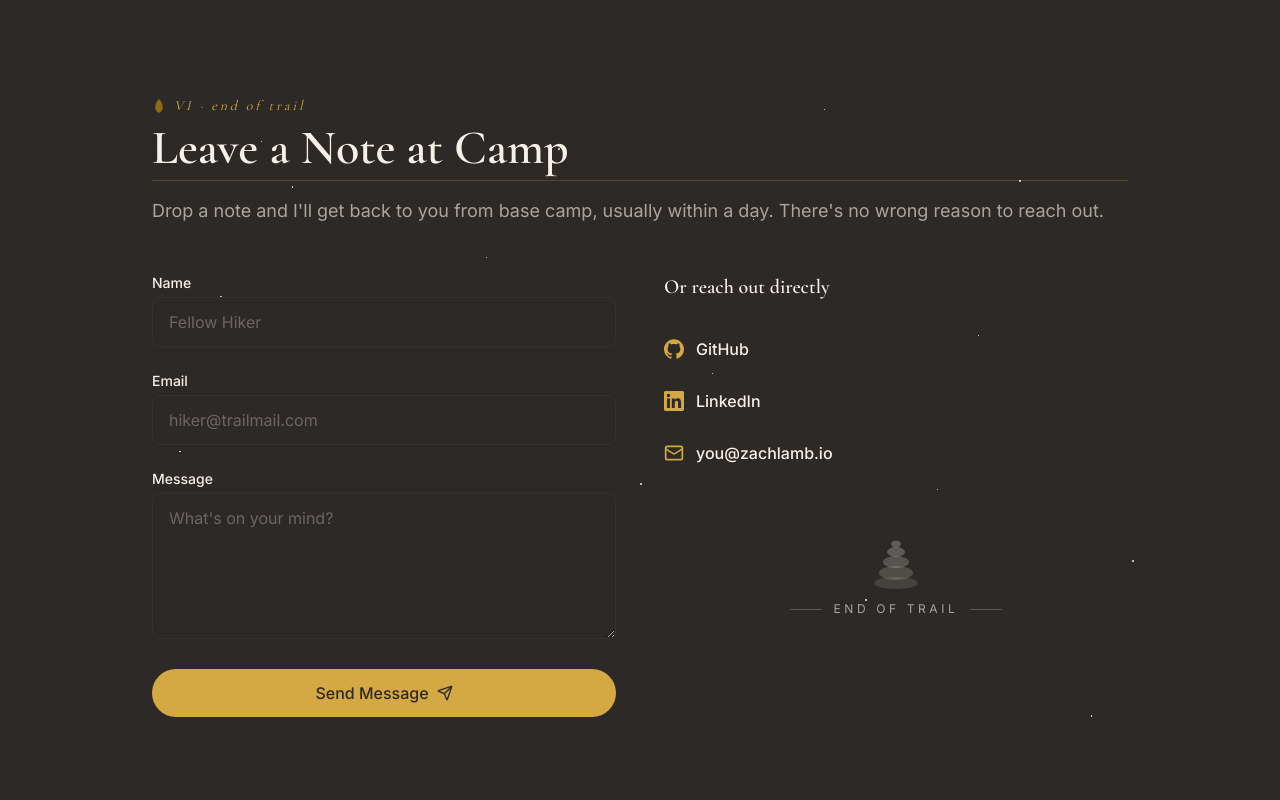
Test: Contact › shows success view on successful submission
Type "Test" into the field labelled "Name" at (384, 322), box x1=152 y1=297 x2=616 y2=347
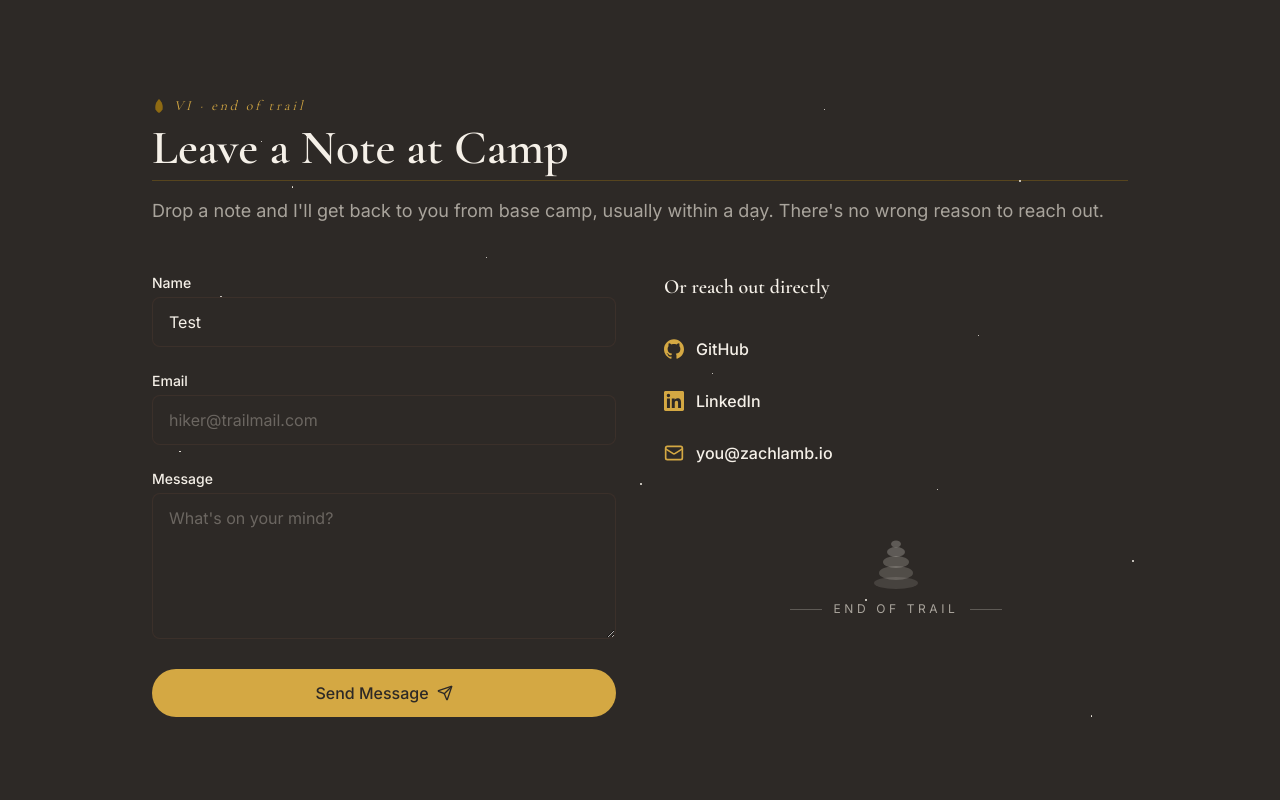
Type "test@test.com" into the field labelled "Email" at (384, 420), box x1=152 y1=395 x2=616 y2=445
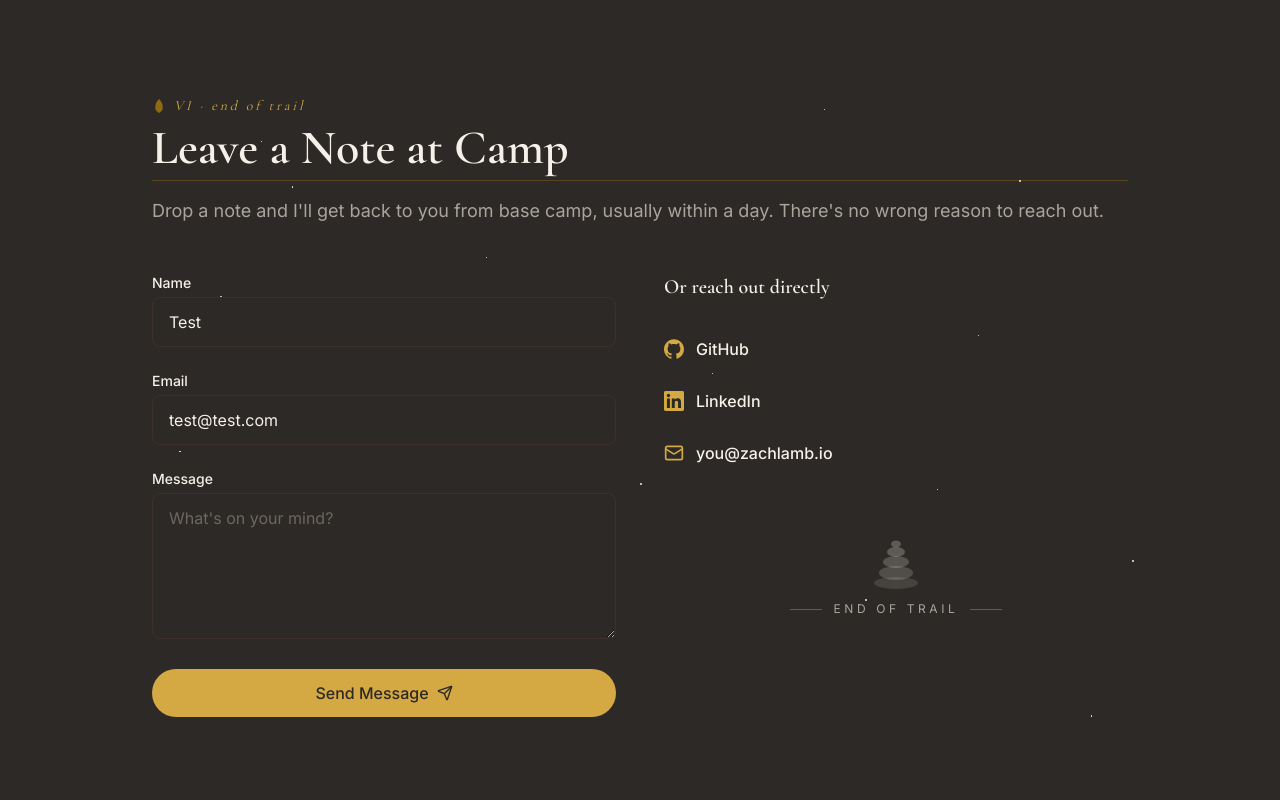
Type "Hello" into the text box labelled "Message" at (384, 566), box x1=152 y1=493 x2=616 y2=639
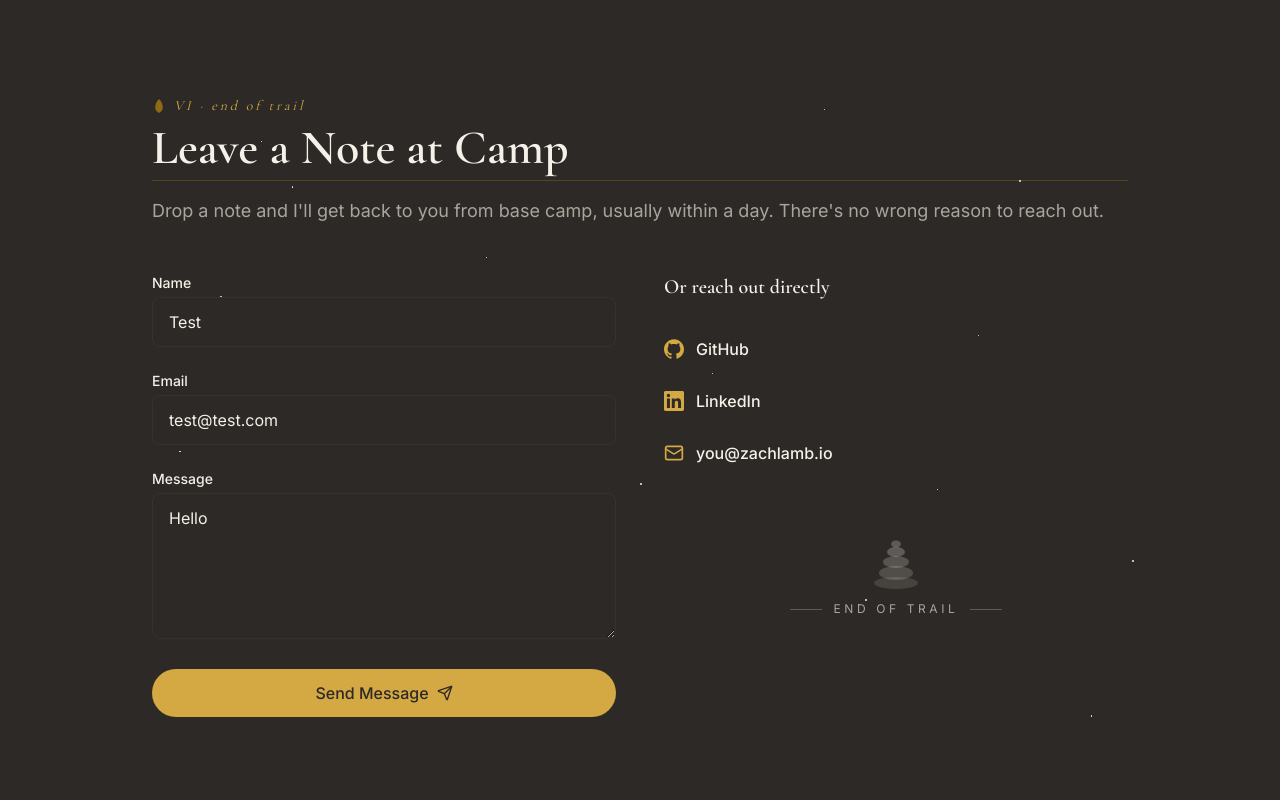
Submit the text "Send Message", box x1=152 y1=273 x2=616 y2=741
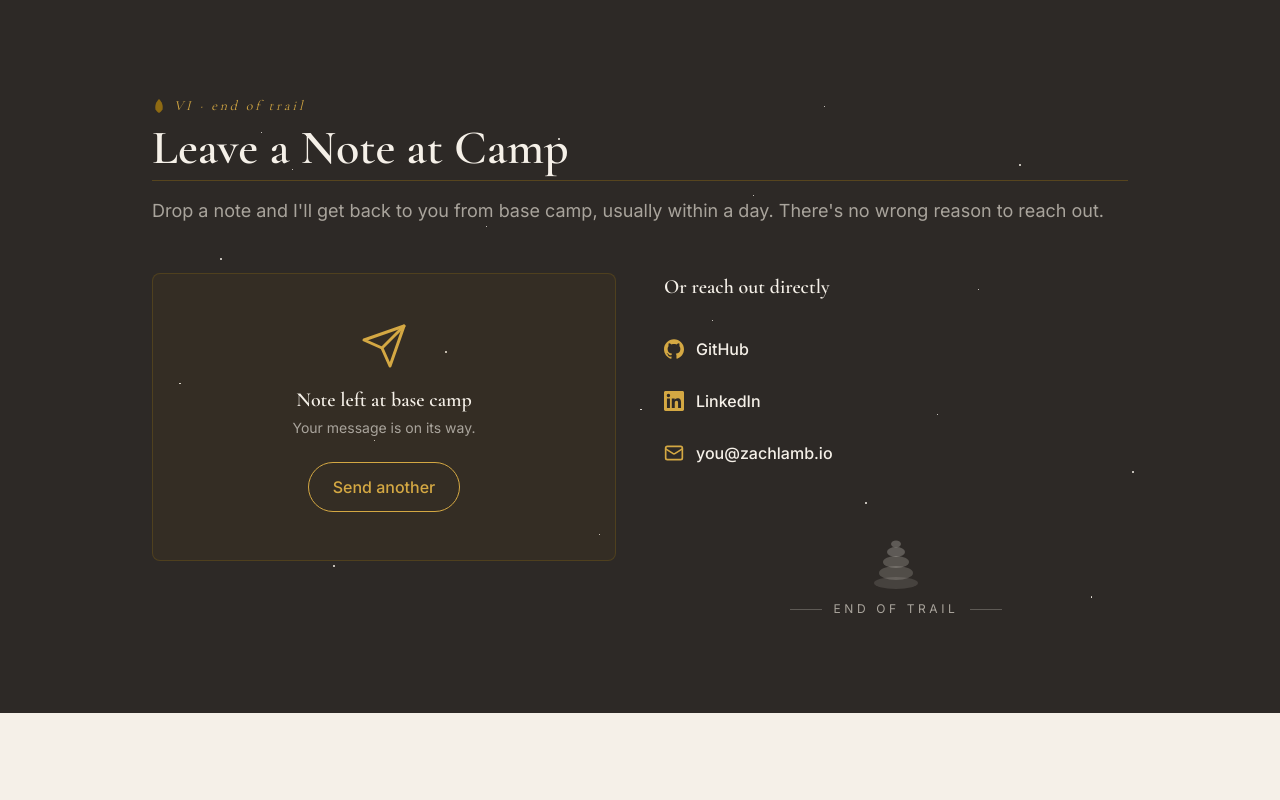
Check: the text "Note left at base camp" is shown, box x1=296 y1=386 x2=472 y2=414
Check: the text "Your message is on its way." is shown, box x1=292 y1=418 x2=476 y2=438
Check: the message "Note left at base camp Your message is on its way. Send another" is shown, box x1=152 y1=273 x2=616 y2=561
